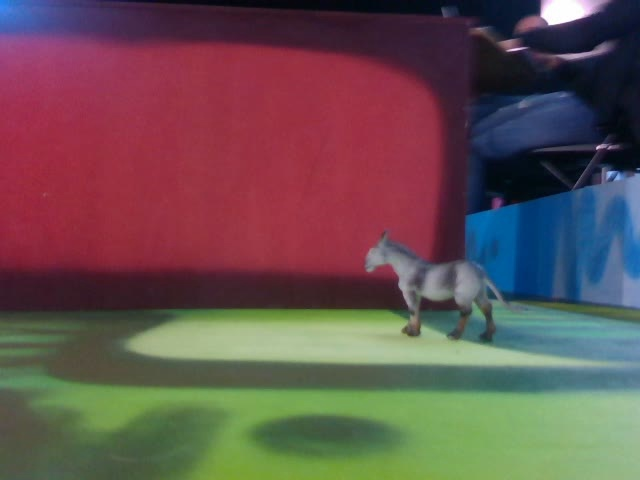toy: (365, 231, 508, 340)
